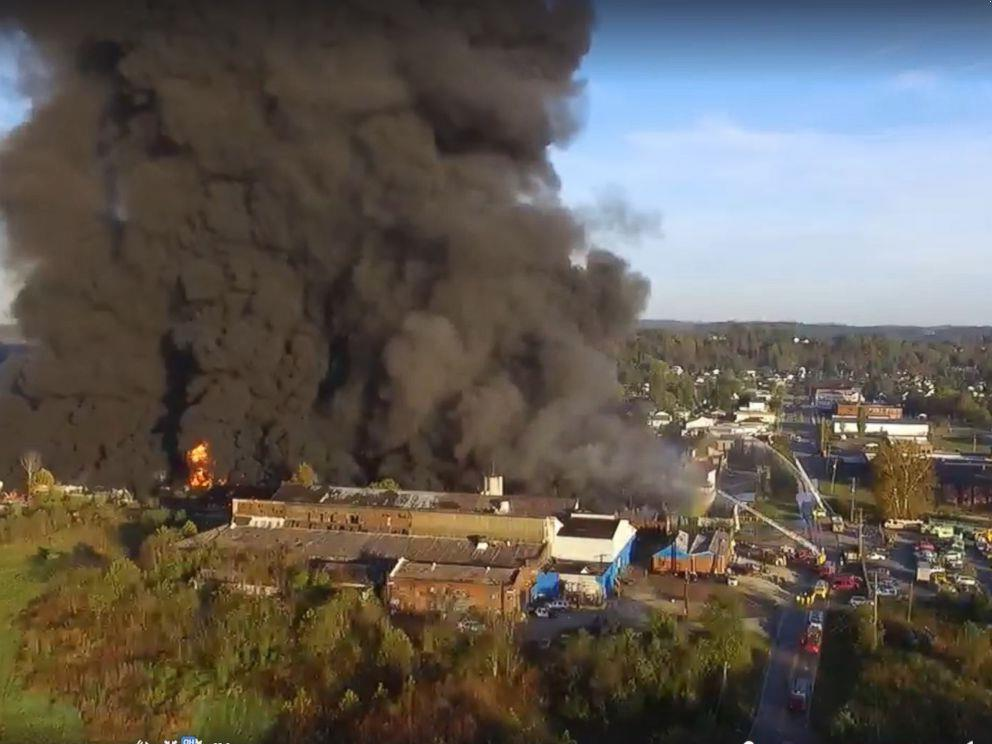Fire: (176, 435, 230, 495)
